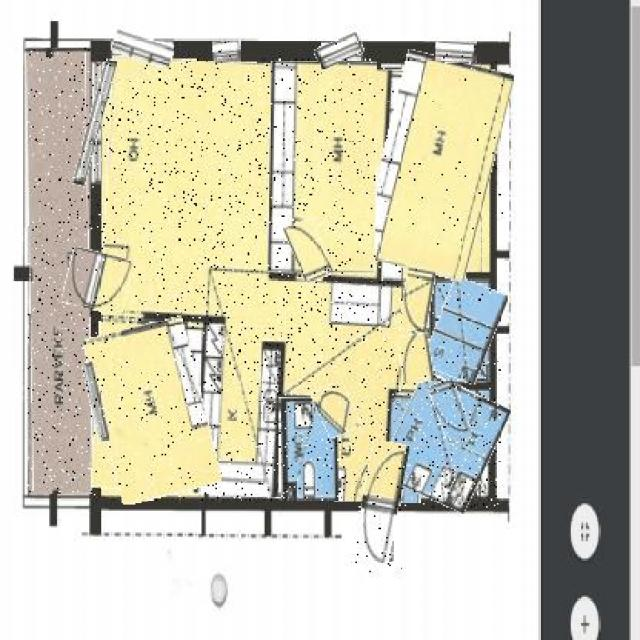door: (355, 440, 403, 575), (64, 250, 130, 312), (289, 218, 328, 282), (316, 381, 358, 437), (432, 380, 468, 445), (402, 270, 432, 332), (398, 332, 432, 383)
window: (82, 59, 109, 188), (111, 32, 174, 65), (86, 362, 106, 442), (317, 36, 363, 66), (437, 40, 480, 63), (214, 40, 240, 63)
zone: (97, 58, 434, 500), (369, 55, 503, 277), (28, 48, 92, 494), (270, 61, 376, 272), (92, 320, 212, 500), (388, 378, 502, 508), (428, 280, 500, 382), (280, 397, 338, 500)
